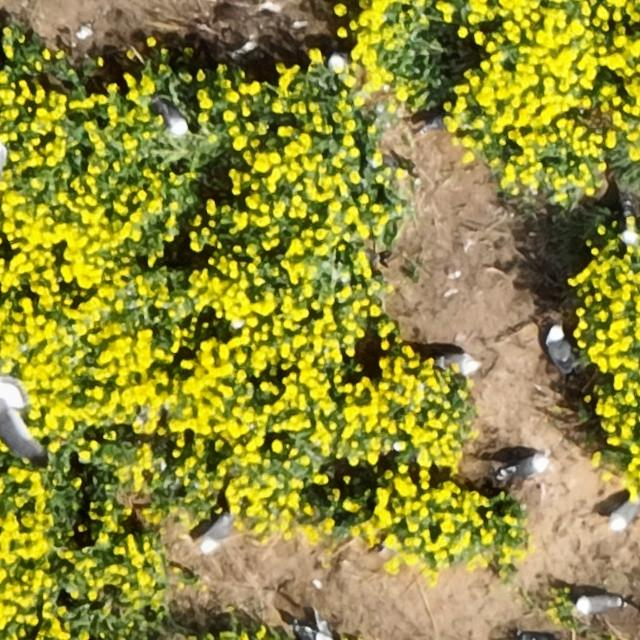F: (0, 387, 41, 468)
umineko: (157, 102, 189, 137), (546, 328, 572, 371), (503, 456, 546, 478), (609, 499, 638, 530), (435, 353, 475, 374), (204, 517, 231, 547), (576, 594, 618, 613), (621, 207, 638, 245), (322, 54, 348, 74), (295, 623, 318, 639)
